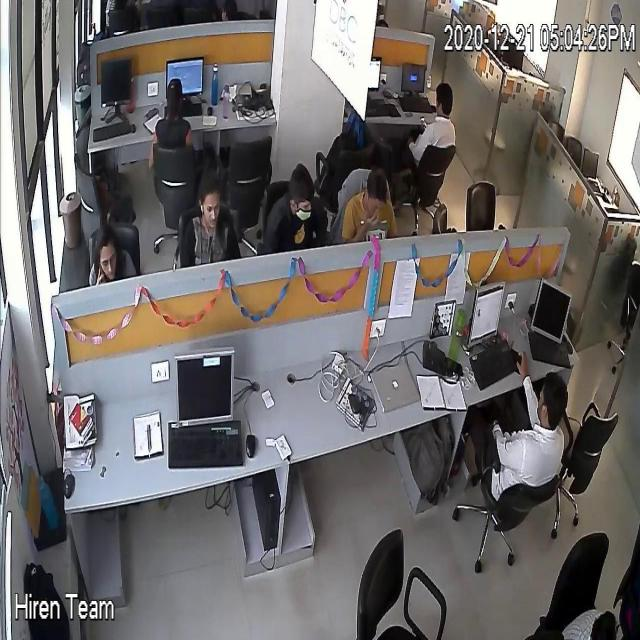chair: (462, 438, 560, 574), (354, 526, 450, 640), (532, 526, 605, 639), (565, 397, 619, 520), (150, 137, 194, 257), (410, 144, 458, 228), (86, 204, 144, 254), (463, 166, 503, 235), (310, 145, 374, 188), (617, 259, 640, 369), (166, 189, 198, 247), (258, 164, 288, 207), (106, 10, 142, 37), (428, 201, 458, 232), (540, 113, 566, 142), (568, 132, 582, 168)
keyboard: (168, 419, 244, 468), (468, 343, 522, 382), (526, 330, 572, 366), (396, 90, 436, 114), (91, 120, 133, 141), (367, 101, 399, 120), (178, 103, 204, 118), (587, 176, 603, 196)
laptop: (372, 361, 422, 412)
monitor: (176, 349, 232, 426), (530, 278, 574, 347), (469, 276, 507, 346), (100, 58, 134, 108), (166, 57, 203, 98), (403, 60, 427, 94), (501, 37, 525, 64), (367, 54, 381, 94), (584, 146, 600, 178)
person: (467, 351, 567, 508), (260, 165, 322, 251), (186, 180, 240, 266), (341, 169, 397, 244), (412, 80, 460, 164), (151, 80, 193, 154), (89, 230, 138, 284), (561, 596, 619, 640), (218, 1, 240, 19), (107, 1, 125, 19)
phone: (94, 258, 106, 285)
